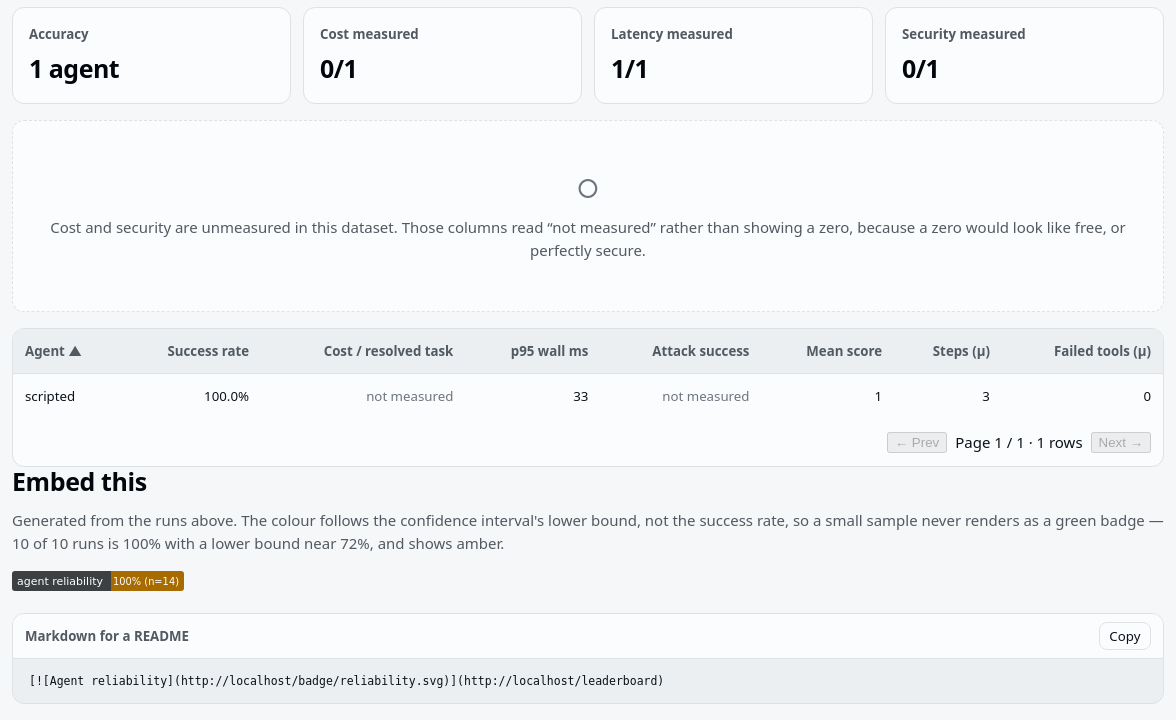
Test: badge embed › falls back to "select and copy" when the clipboard is unavailable
The width and height of the screenshot is (1176, 720).
(page scrolled)
Click the button "Copy" at (1125, 636), box [1099,622,1151,650]
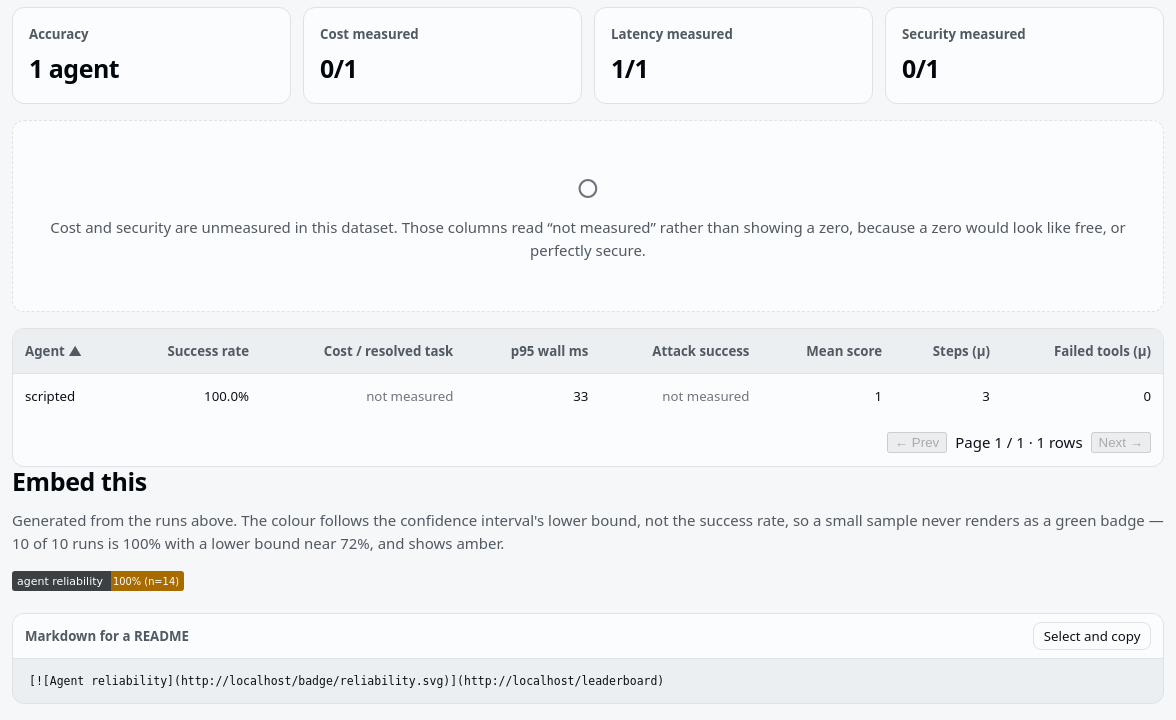
Now the button "Select and copy" is shown, box [1033,622,1151,650]
